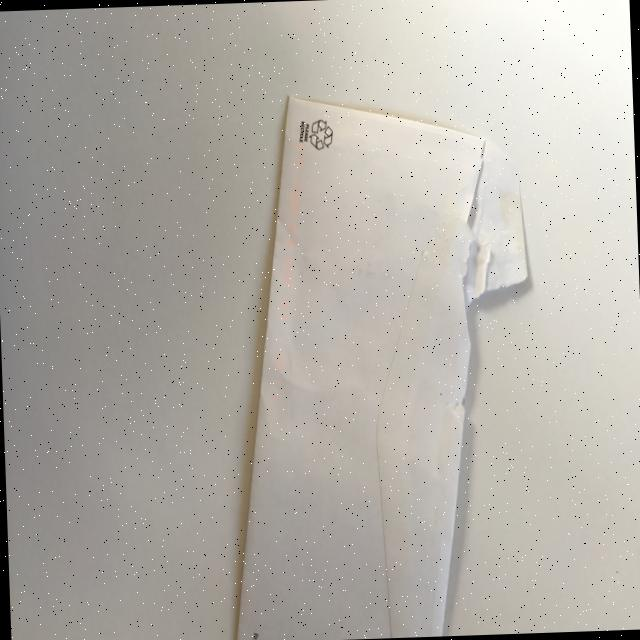paper: (215, 86, 539, 640)
